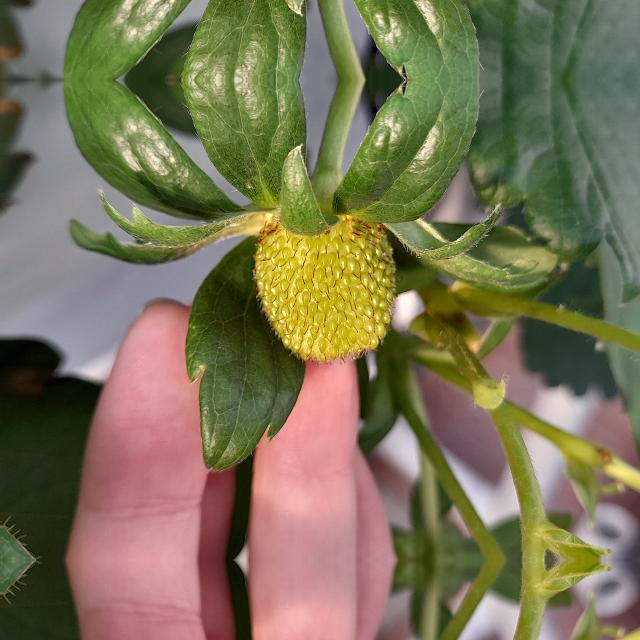Health_25: (250, 213, 396, 364)
